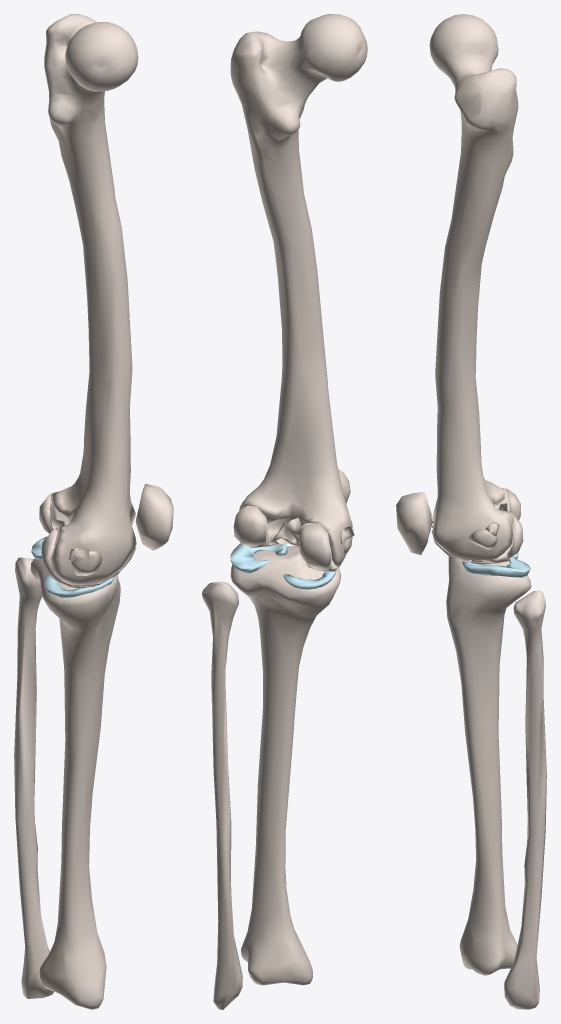
File: vh_f_knee_l-20.glb
3 renders of one model, left to right at view 1: azimuth 90°, elevation 25°; view 2: azimuth 150°, elevation 25°; view 3: azimuth 270°, elevation 25°, orthographic. The views are drawn at different scales.
Parts seen in each view (by area): view 1: VH_F_femur_L, VH_F_tibia_L, VH_F_fibula_L, VH_F_patella_L, VH_F_meniscus_L, VH_F_articular_cartilage_of_knee_L, VH_F_medial_perichondular_surface_L, VH_F_medial_condyle_of_left_femur_inf; view 2: VH_F_femur_L, VH_F_tibia_L, VH_F_fibula_L, VH_F_meniscus_L, VH_F_medial_condyle_of_left_femur_inf, VH_F_lateral_condyle_of_femur_inf_L, VH_F_articular_cartilage_of_knee_L; view 3: VH_F_femur_L, VH_F_tibia_L, VH_F_fibula_L, VH_F_patella_L, VH_F_meniscus_L, VH_F_articular_cartilage_of_knee_L, VH_F_lateral_perichondular_surface_L, VH_F_lateral_condyle_of_femur_inf_L.
Boxes of the visible parts, bbox=[...] form: VH_F_femur_L: bbox=[44, 14, 138, 584]; VH_F_tibia_L: bbox=[30, 558, 120, 1009]; VH_F_fibula_L: bbox=[14, 557, 53, 998]; VH_F_patella_L: bbox=[135, 484, 173, 550]; VH_F_meniscus_L: bbox=[31, 536, 115, 597]; VH_F_articular_cartilage_of_knee_L: bbox=[49, 493, 136, 586]; VH_F_medial_perichondular_surface_L: bbox=[71, 551, 102, 575]; VH_F_medial_condyle_of_left_femur_inf: bbox=[41, 528, 57, 581]; VH_F_femur_L: bbox=[230, 14, 367, 567]; VH_F_tibia_L: bbox=[230, 546, 341, 985]; VH_F_fibula_L: bbox=[202, 581, 242, 1009]; VH_F_meniscus_L: bbox=[230, 543, 336, 589]; VH_F_medial_condyle_of_left_femur_inf: bbox=[299, 524, 331, 570]; VH_F_lateral_condyle_of_femur_inf_L: bbox=[233, 507, 266, 547]; VH_F_articular_cartilage_of_knee_L: bbox=[237, 505, 340, 571]; VH_F_femur_L: bbox=[429, 14, 518, 559]; VH_F_tibia_L: bbox=[446, 556, 531, 975]; VH_F_fibula_L: bbox=[504, 590, 546, 1009]; VH_F_patella_L: bbox=[396, 492, 431, 555]; VH_F_meniscus_L: bbox=[462, 552, 530, 577]; VH_F_articular_cartilage_of_knee_L: bbox=[431, 488, 513, 563]; VH_F_lateral_perichondular_surface_L: bbox=[466, 529, 498, 549]; VH_F_lateral_condyle_of_femur_inf_L: bbox=[507, 512, 523, 559].
Size of the model in its own units: 0.1014 by 0.772 by 0.1105.
